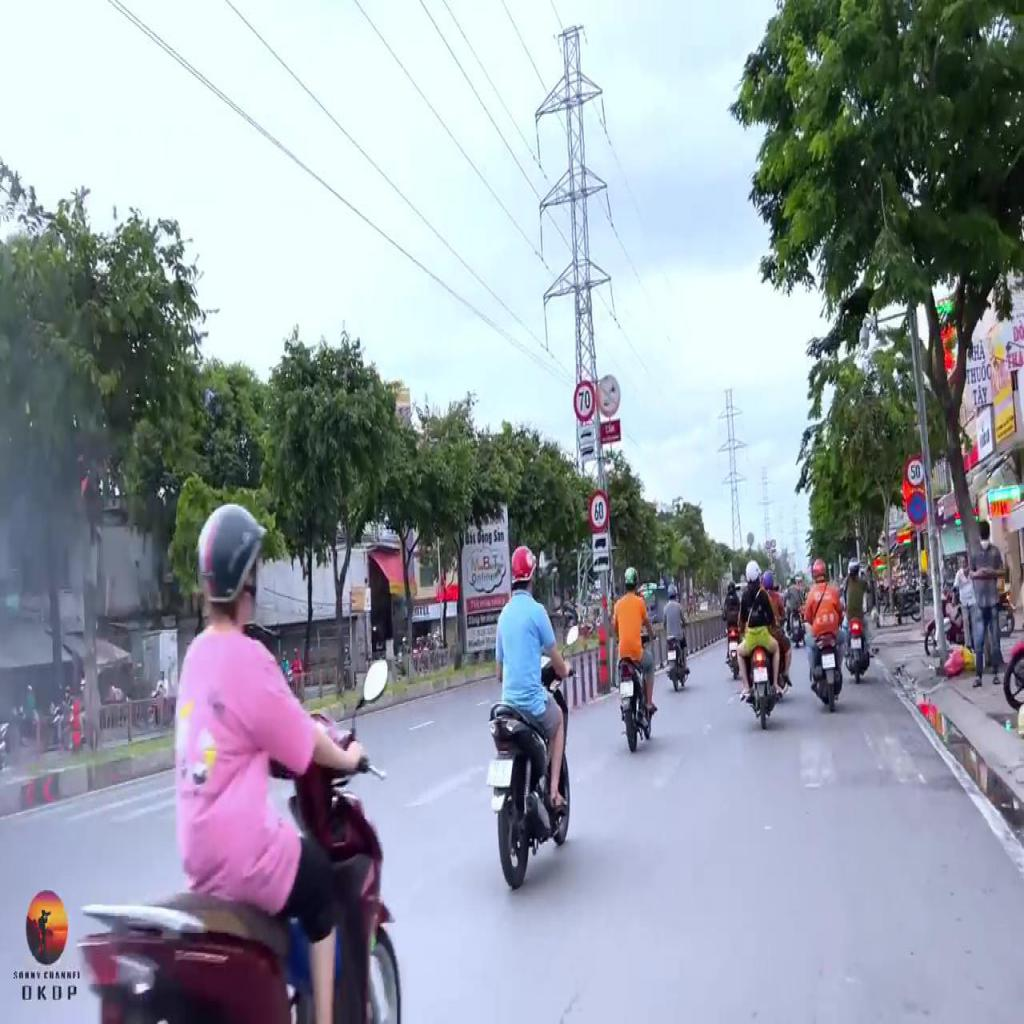cam_dung_xe_va_do_xe: (907, 491, 927, 526)
cam_xe_2_banh_va_xe_3_banh_co_dong_co: (598, 374, 620, 415)
khac: (574, 381, 595, 421), (579, 425, 595, 445), (593, 552, 609, 572), (581, 442, 595, 461), (593, 535, 607, 552)
toc_do_toi_da_50: (905, 455, 925, 489)
toc_do_toi_da_60: (588, 489, 608, 532)
